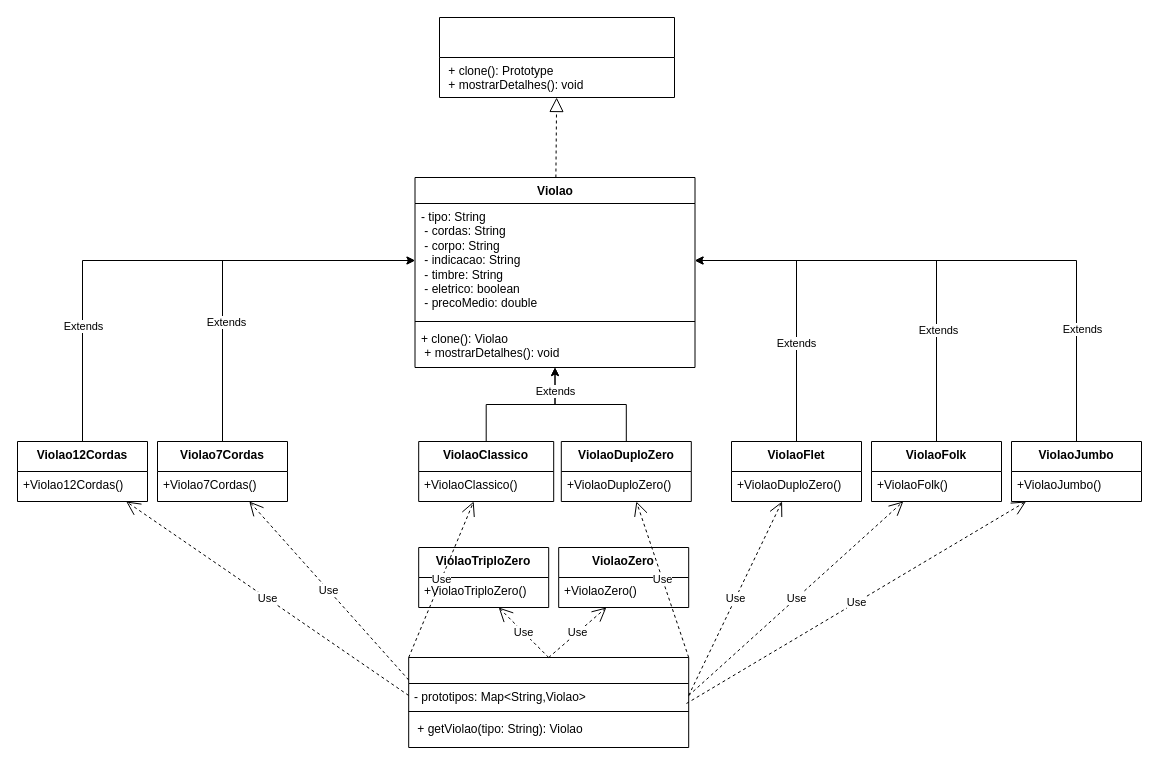
Image size: 1159x768. Some labels were removed from this diagram. Each missing label, with the box of its shape:
FabricaVioloes: (408, 656, 689, 748)
«interface» Prototype: (438, 16, 674, 98)
